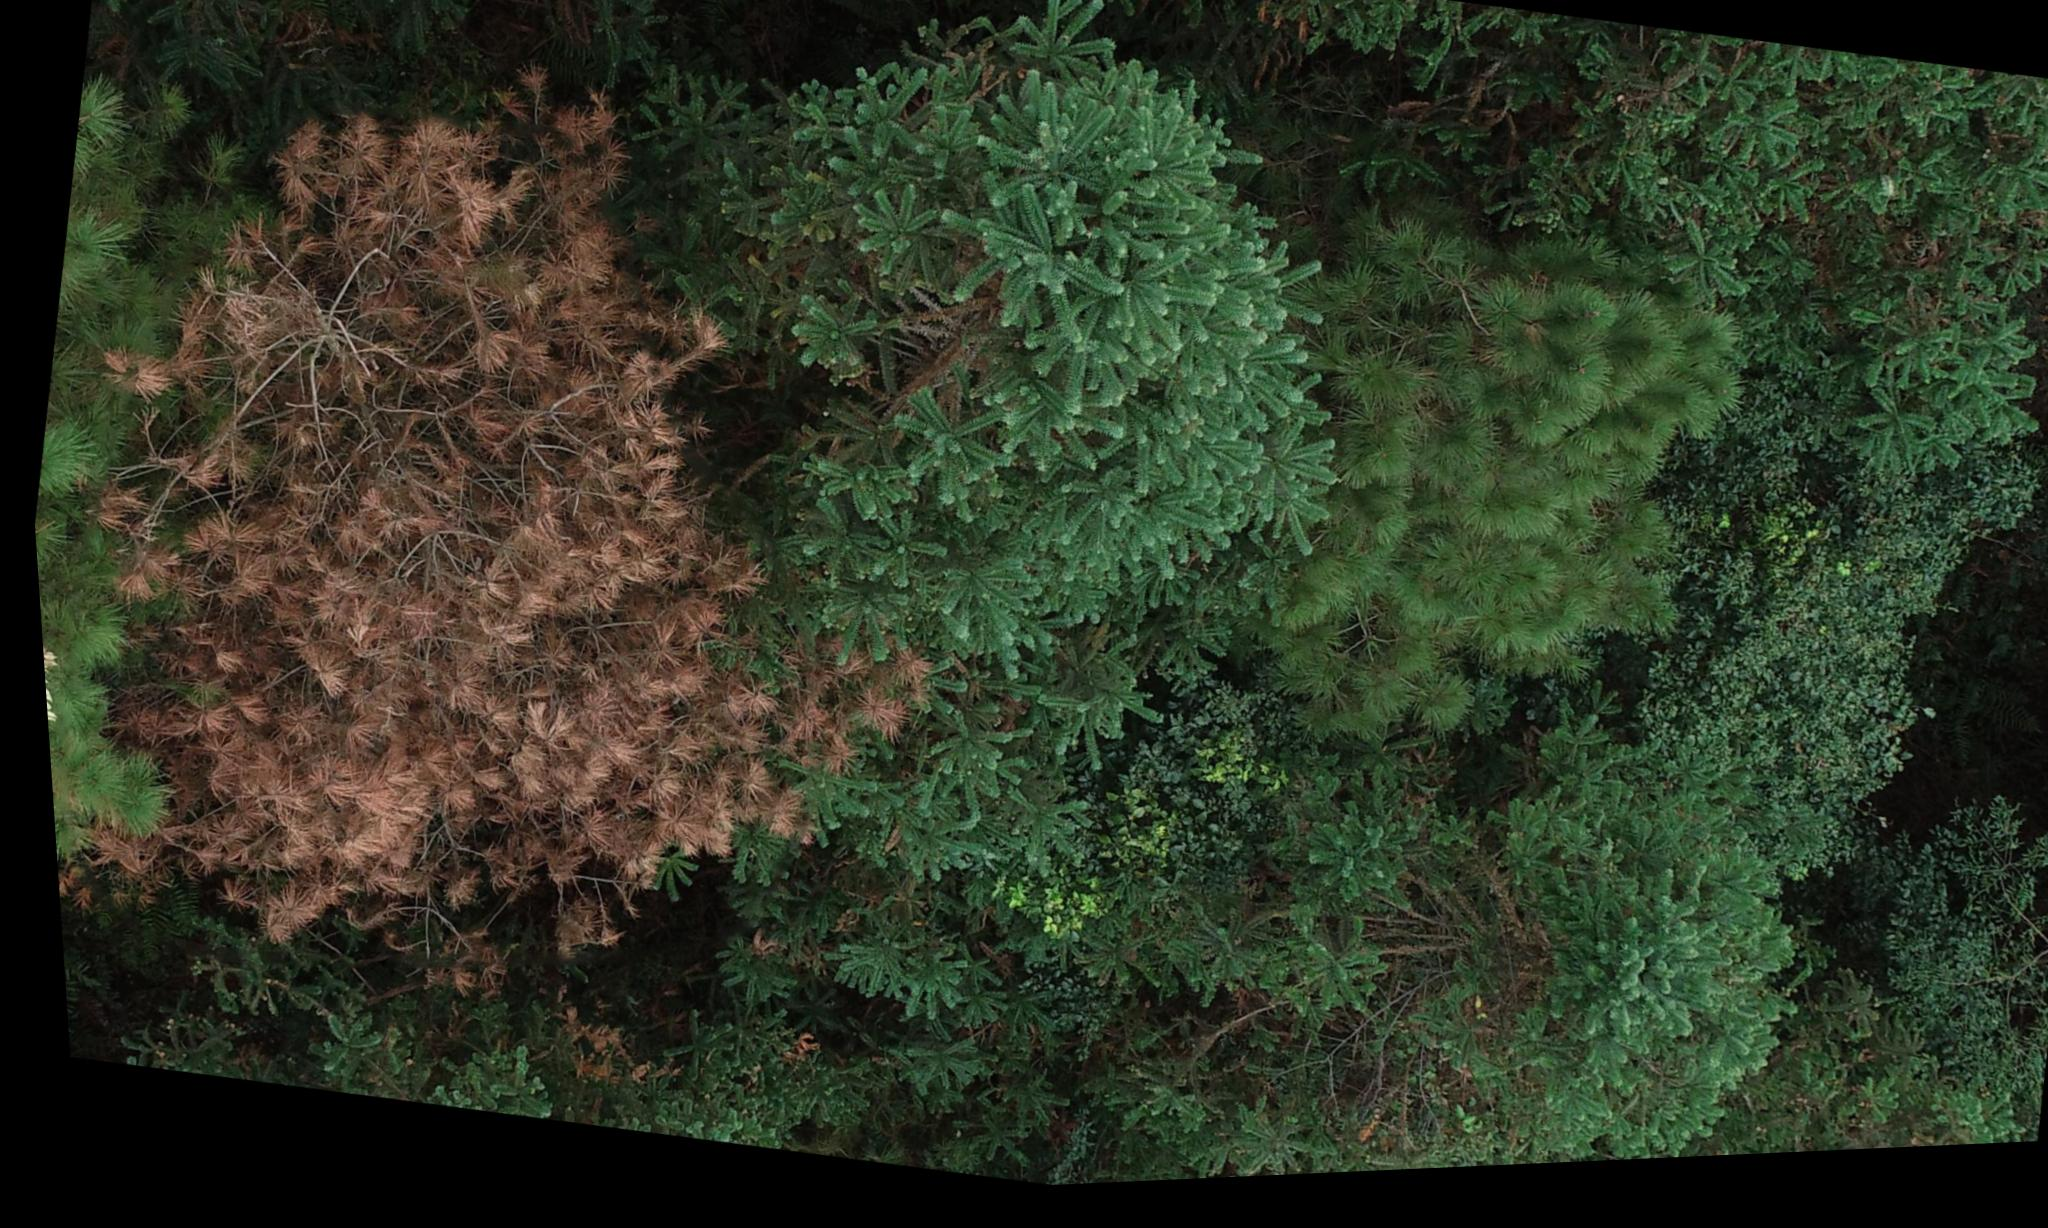heavy: (1, 4, 1029, 1023)
